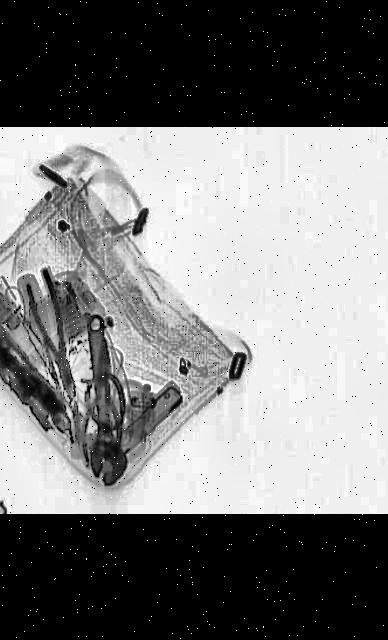Pliers: (19, 266, 89, 398)
Wrench: (80, 311, 130, 485)
